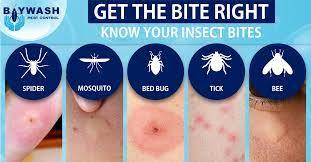Bee-bite: (251, 106, 292, 148)
Mosquito: (79, 111, 116, 142)
Spider: (13, 108, 47, 142)
Tick: (185, 102, 245, 159), (194, 110, 212, 130), (223, 128, 240, 147), (222, 107, 232, 116)
bedbug: (125, 105, 183, 155)
